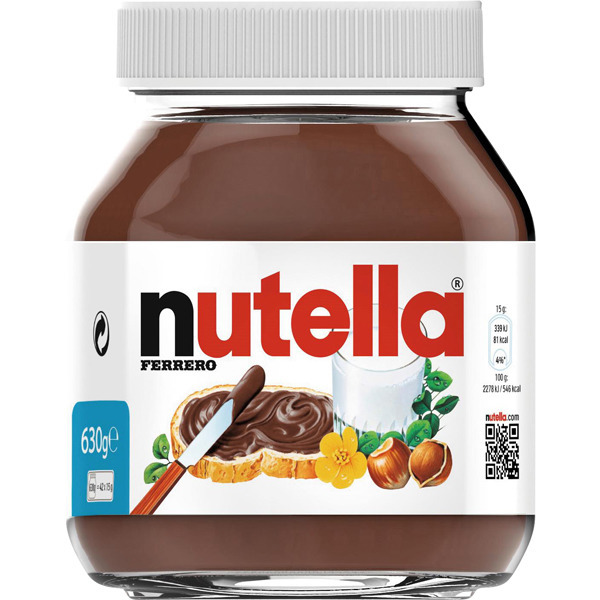nutella: (75, 2, 537, 600)
